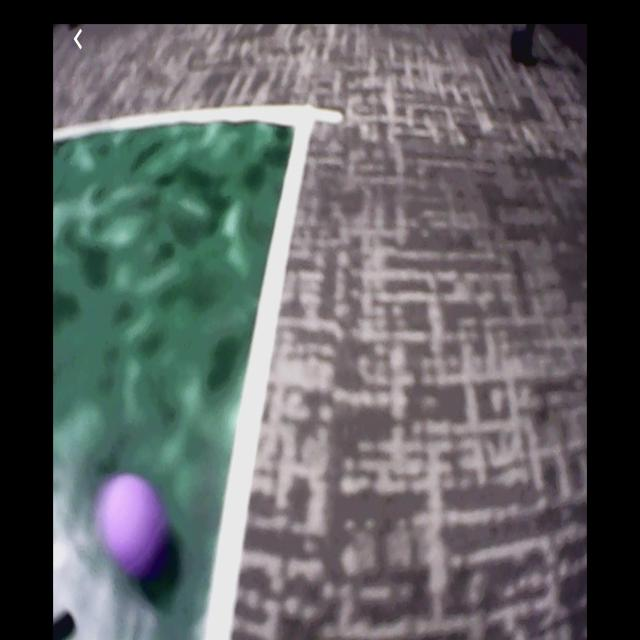ball: (101, 477, 166, 578)
